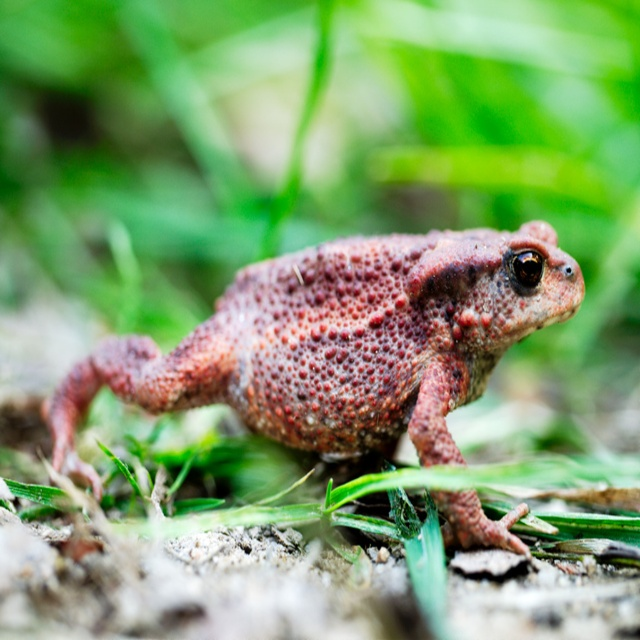Frog: (40, 221, 585, 554)
